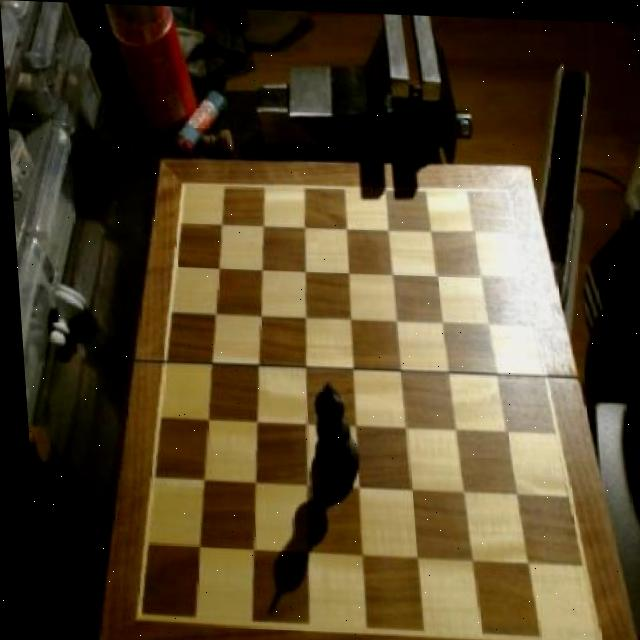black-bishop: (304, 376, 357, 490)
